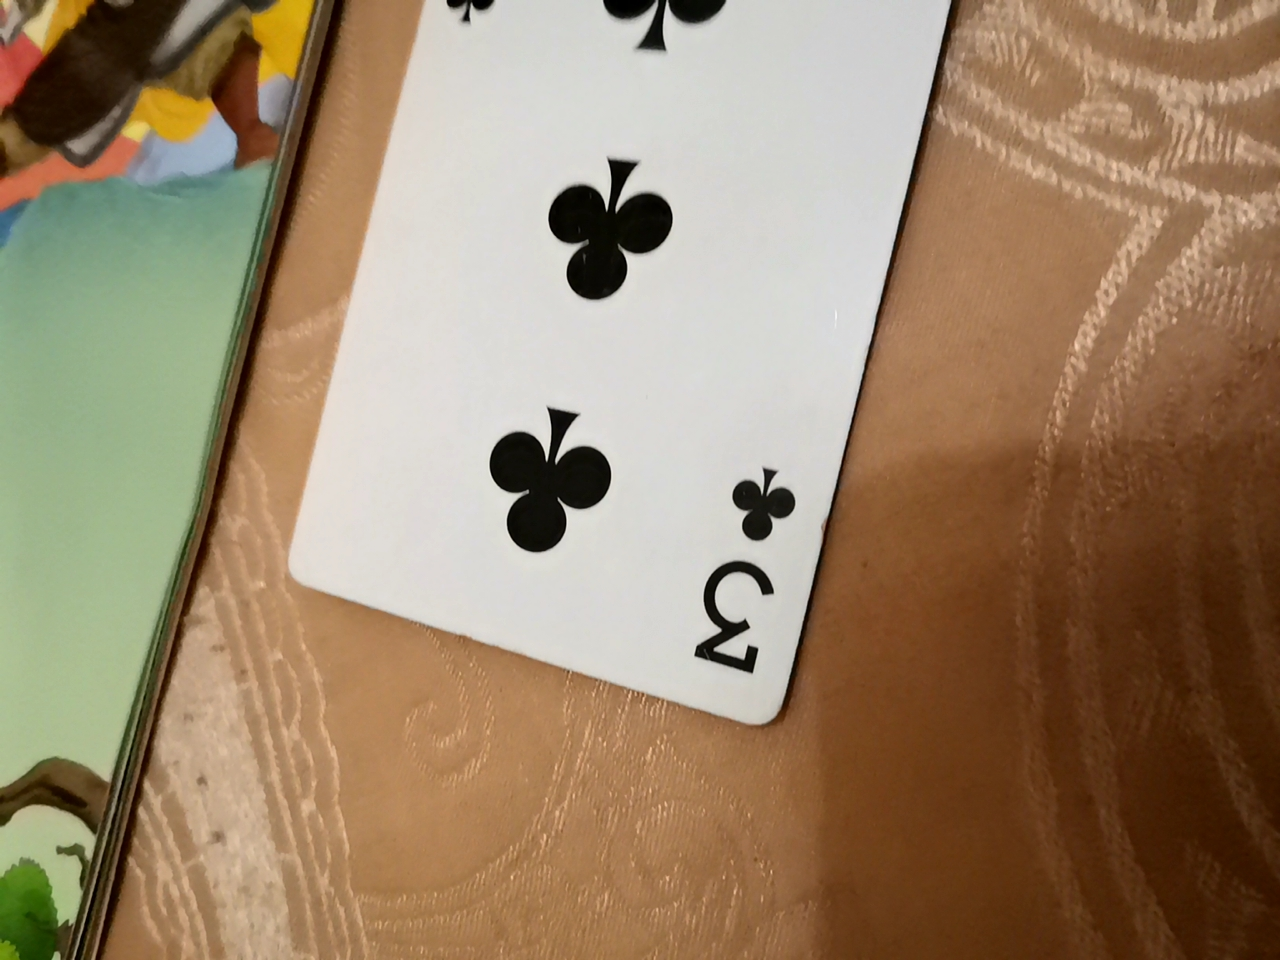mh 3: (280, 2, 976, 809)
